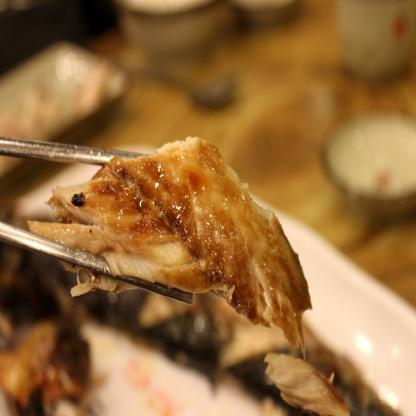Peixe: (49, 122, 322, 340)
